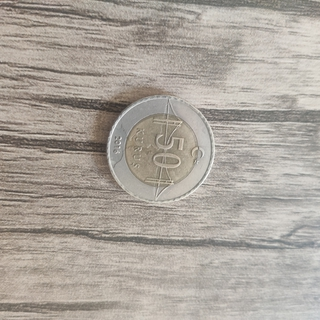50KURUS: (104, 92, 215, 206)
